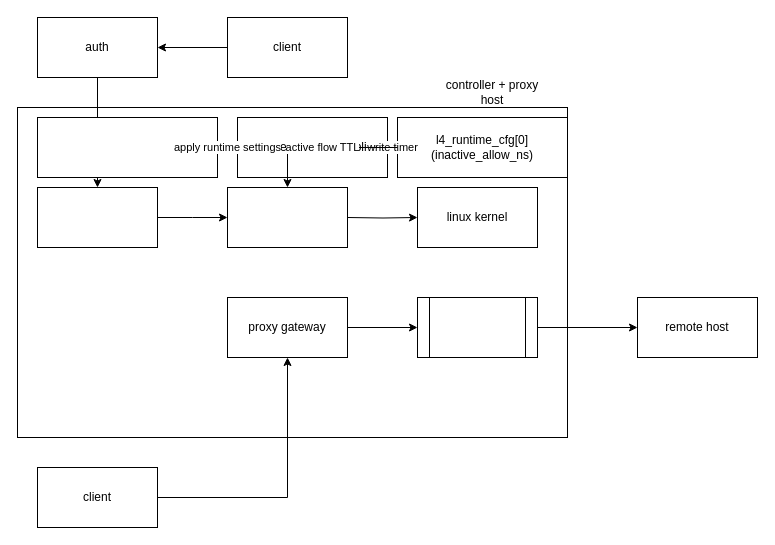
This 775x545 diagram has some shape labels left out. Each missing label, with the centre of its shape:
/management/settings handshake_window_sec + inactive_timer_sec: [127,147]
cbpf: [287,217]
Controller: [97,217]
валидация подключения на основе cbpf-правил: [477,327]
